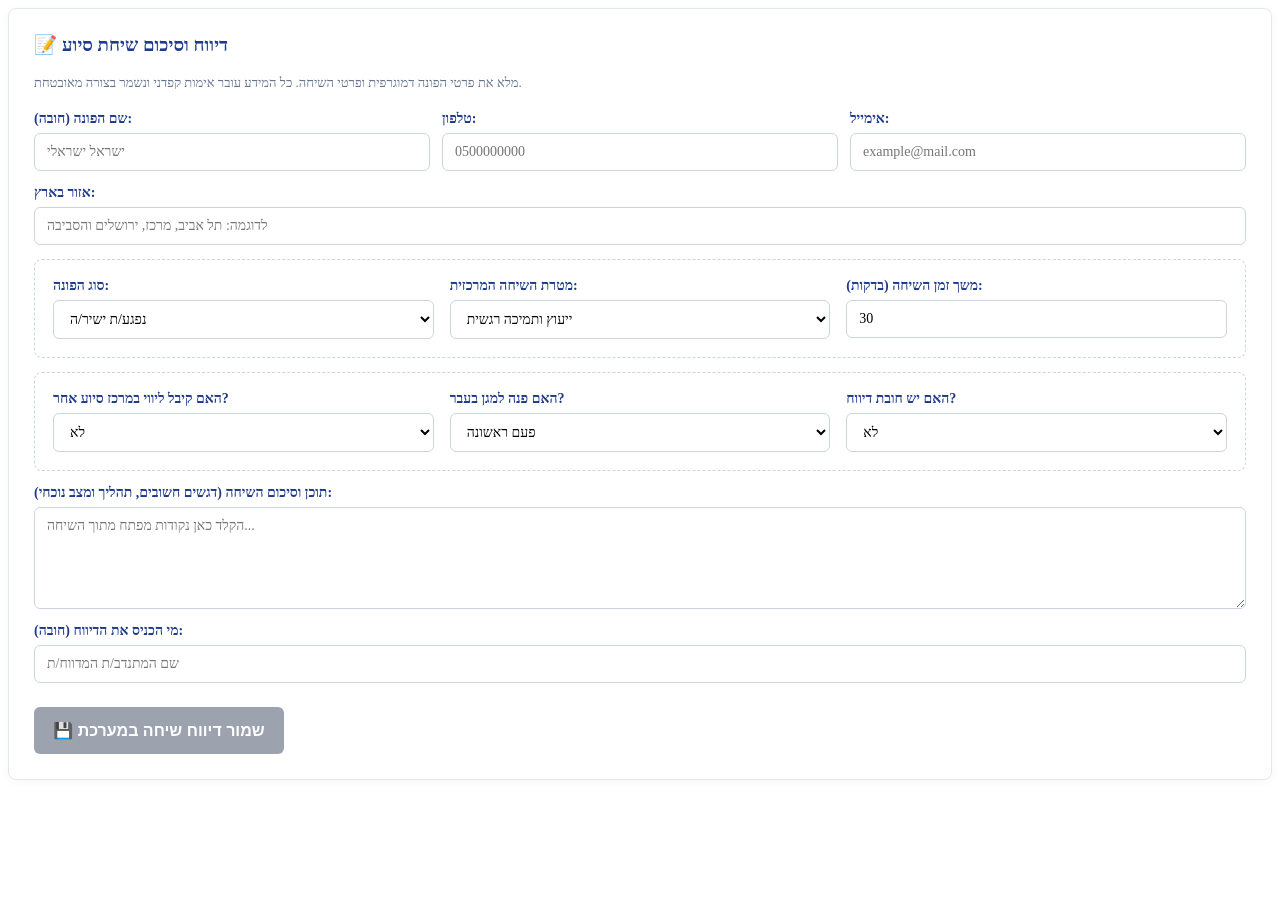
Test: ReportComponent › phone number validation › should show an inline error once the summary is touched with fewer than 5 characters
Step 1. Type "קצר" into the text box named "summaryNotes" → x=640, y=558, box [34, 507, 1246, 609]
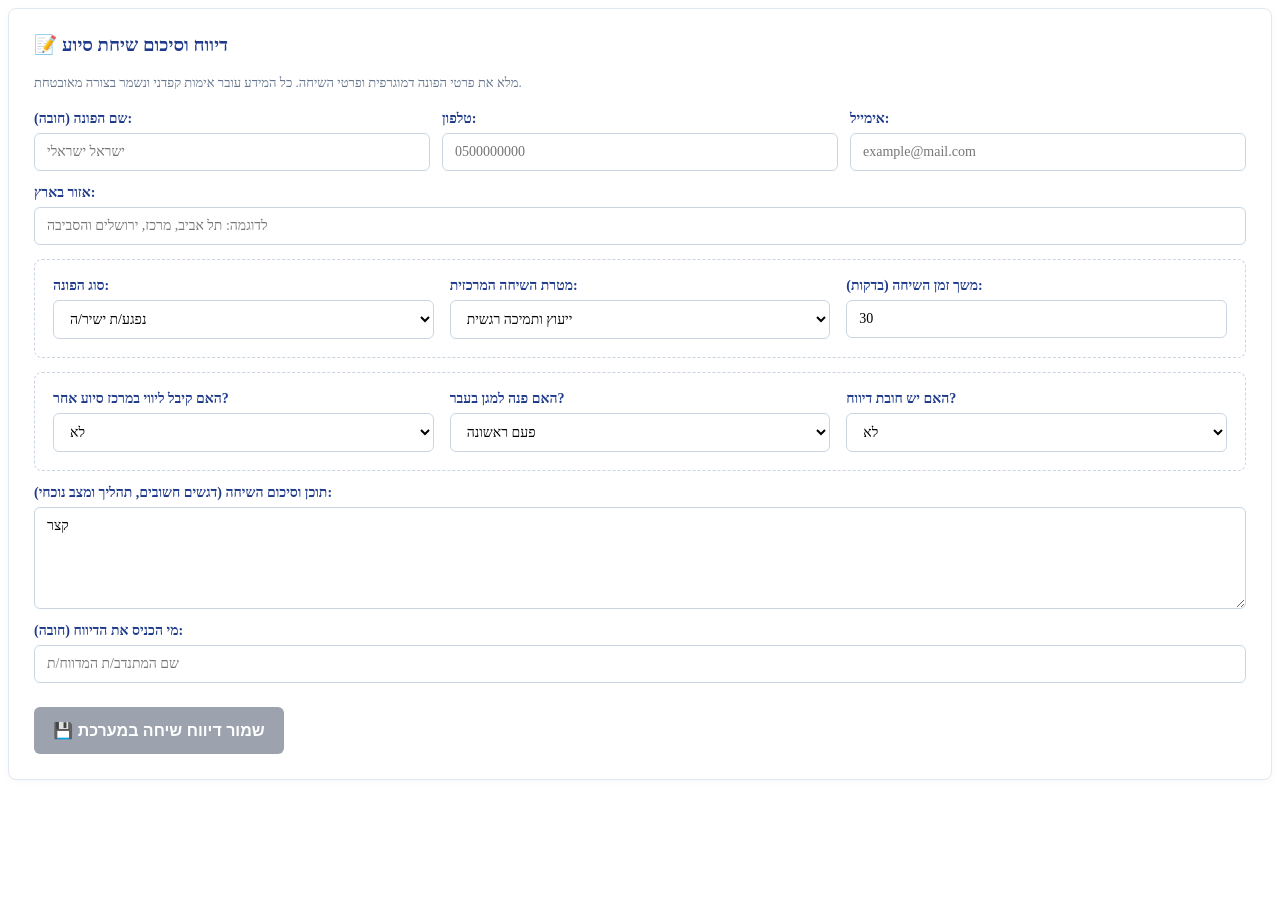
Step 2. Leave the text box named "summaryNotes", box [34, 507, 1246, 609]
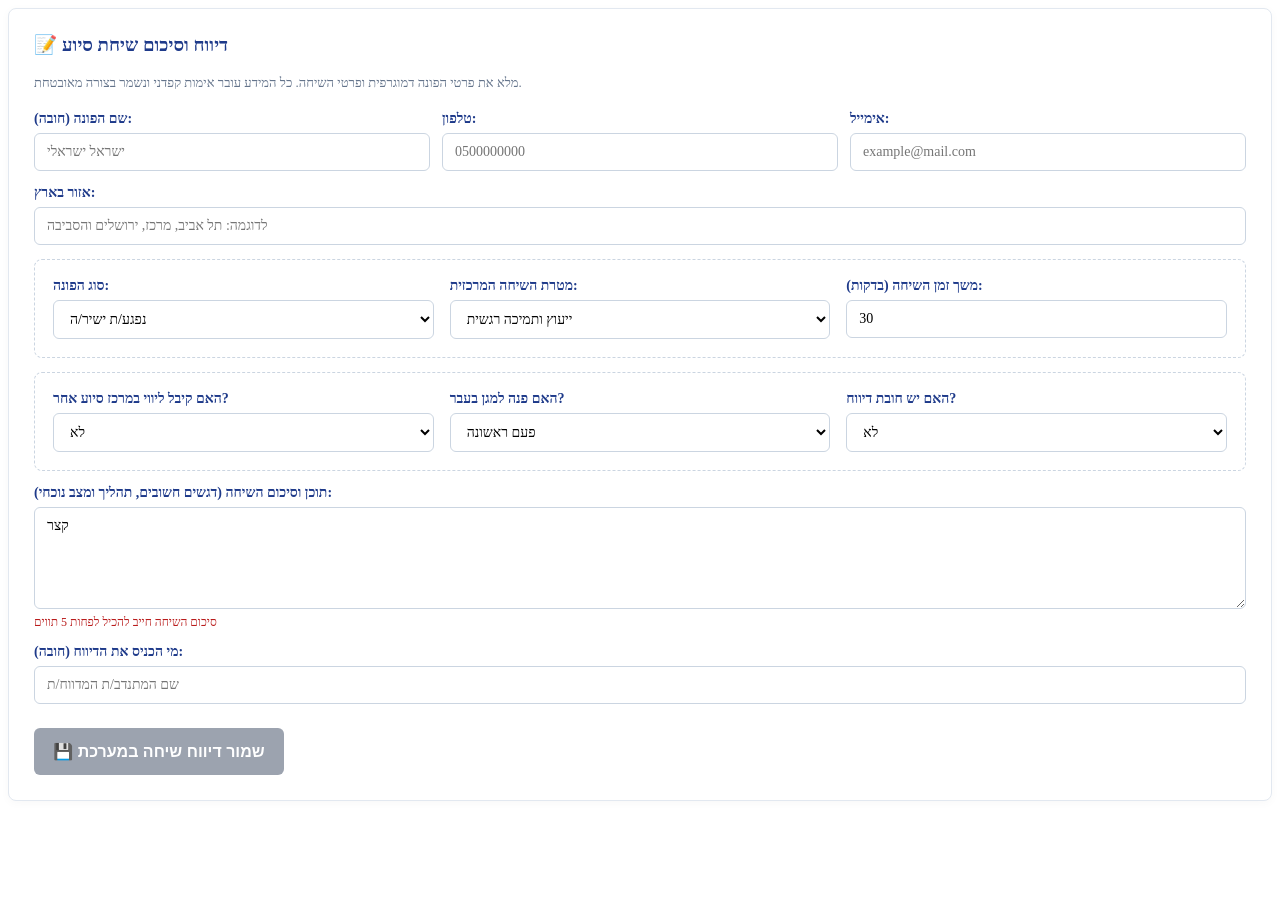
Expected: the text with class "field-error" shows "לפחות 5 תווים", [34, 615, 217, 629]
